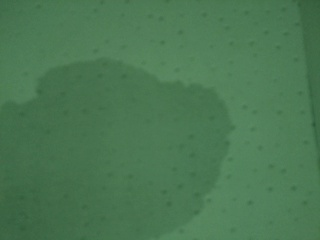Water_detected: (18, 78, 196, 227)
